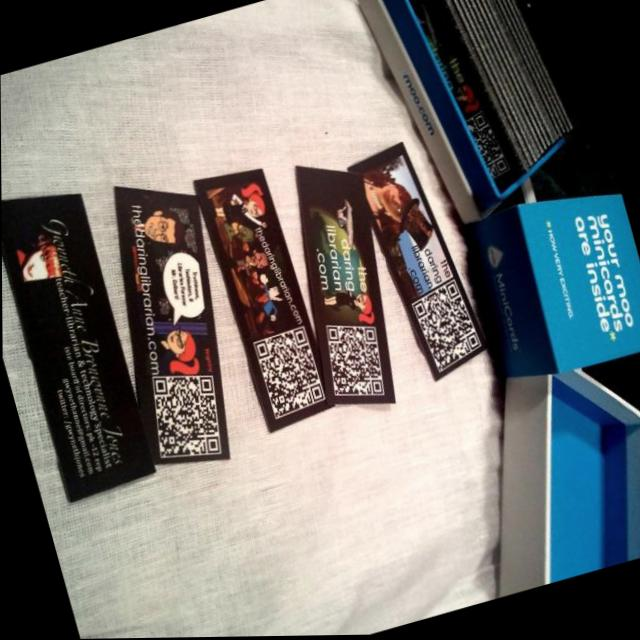qrcode: (140, 363, 231, 469), (409, 280, 484, 375), (317, 316, 391, 408), (253, 328, 325, 419)
